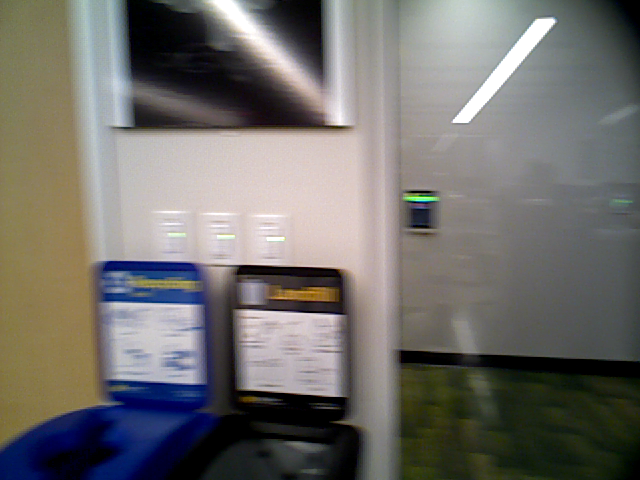painting1: (113, 1, 339, 128)
